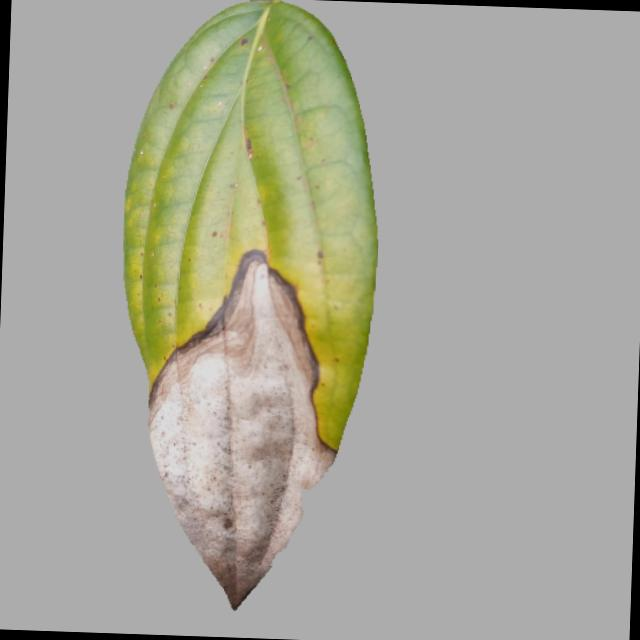leaf-blight: (90, 0, 403, 631)
